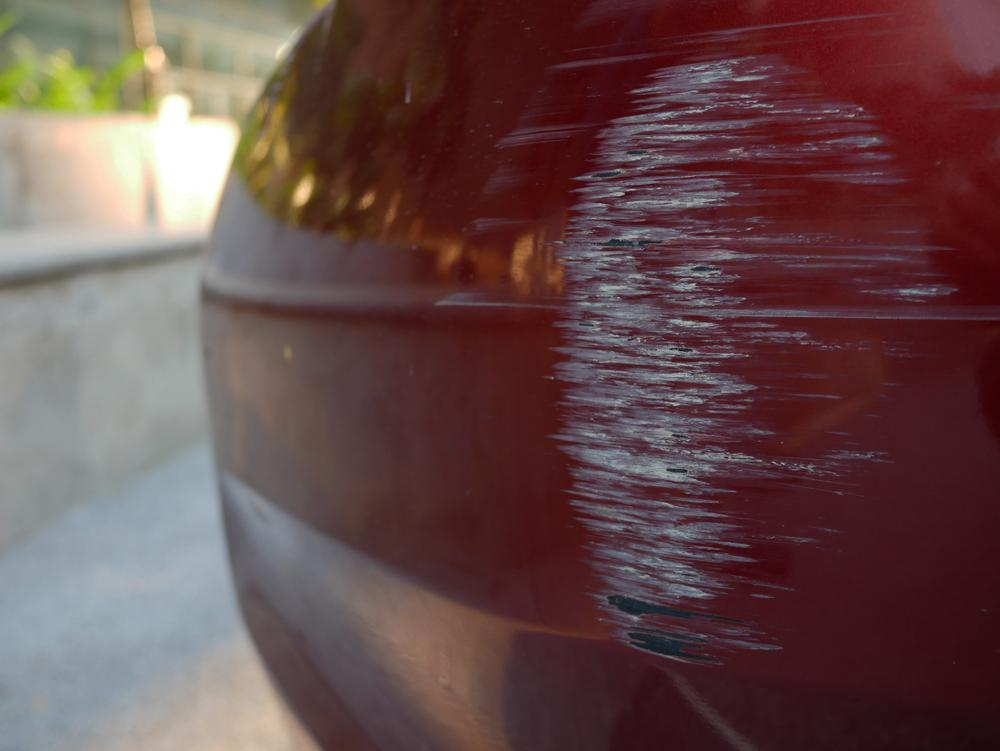scratch: (438, 6, 968, 671)
